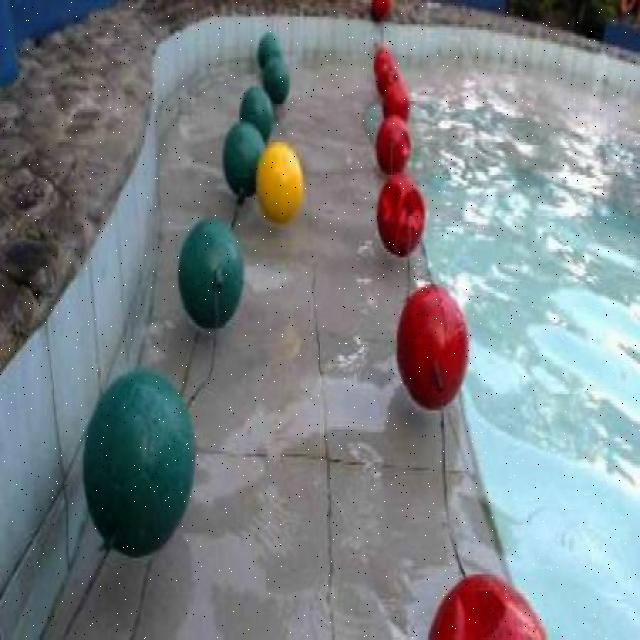buoy: (80, 367, 198, 557), (393, 281, 467, 409), (426, 572, 547, 637), (177, 218, 243, 330), (375, 172, 424, 255), (254, 143, 302, 224), (220, 121, 264, 196), (238, 82, 272, 143), (374, 115, 408, 175), (261, 54, 289, 104), (382, 78, 409, 124), (376, 59, 401, 95), (255, 34, 280, 70)
